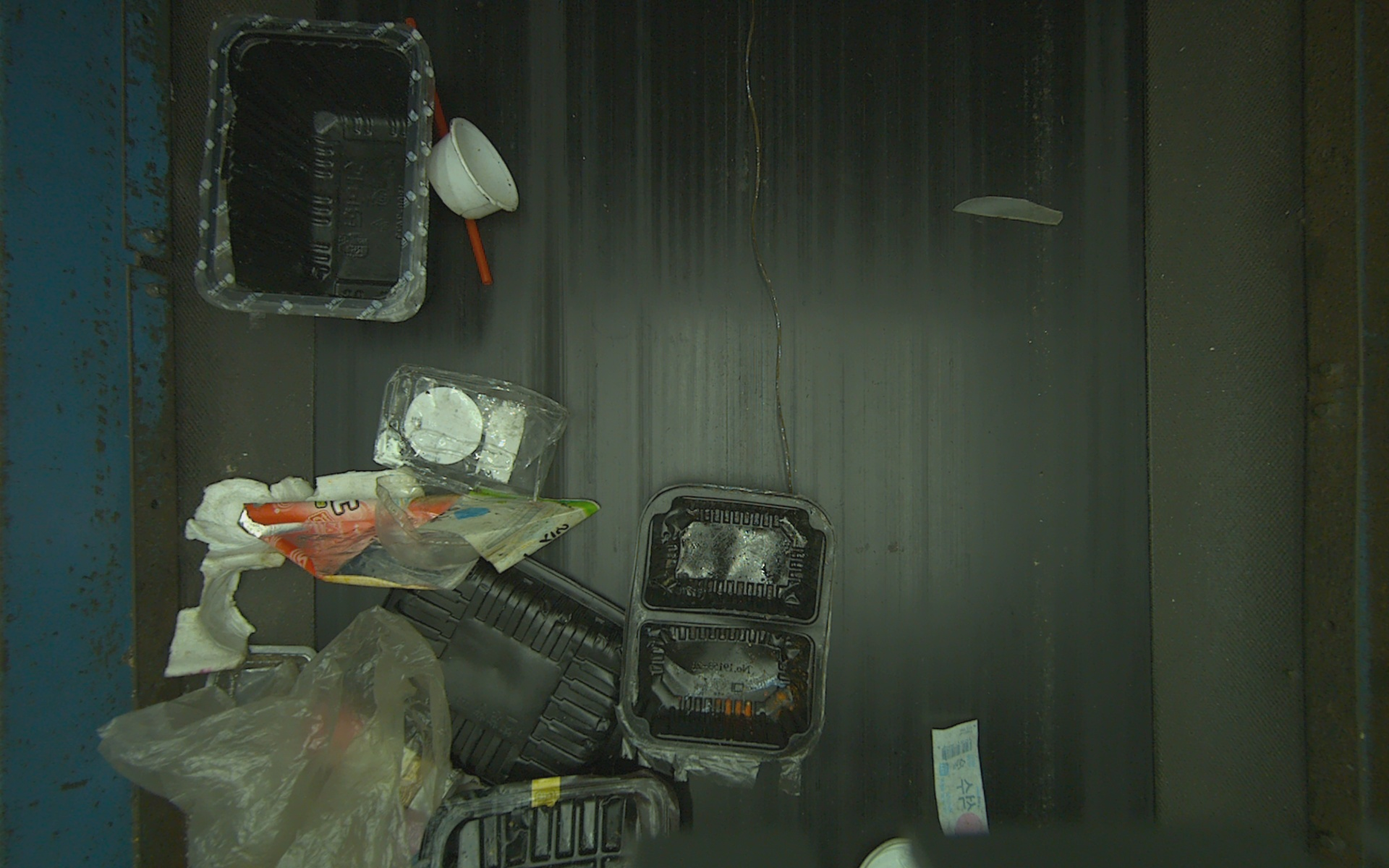PET-C: (373, 362, 570, 507), (374, 474, 544, 571)
PP-B: (204, 20, 422, 312), (619, 482, 836, 761), (381, 556, 628, 787)
PS-W: (428, 116, 519, 221)
